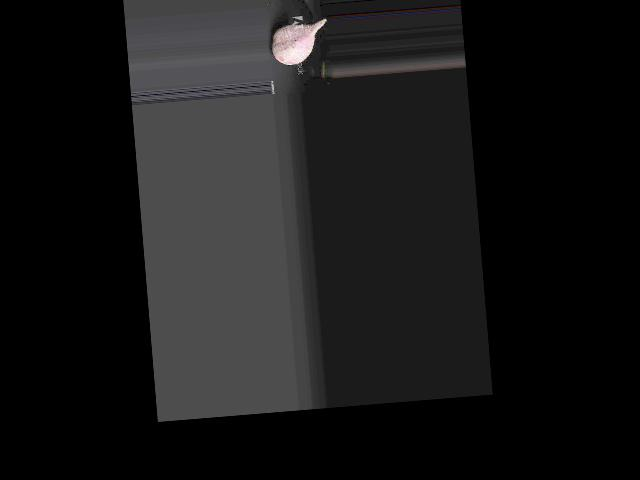beet: (270, 19, 329, 66)
